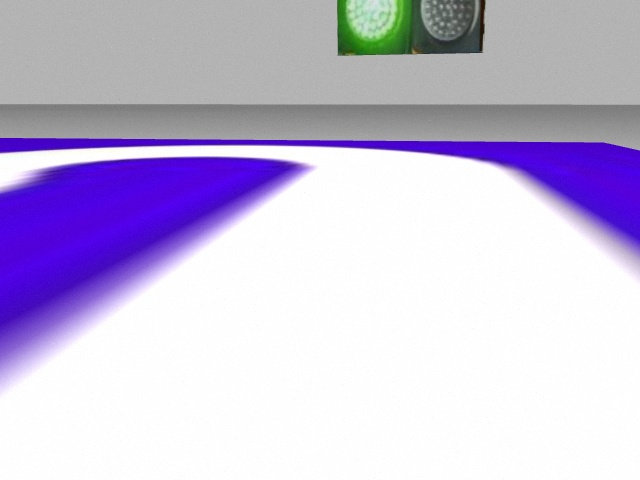green: (337, 2, 412, 52)
